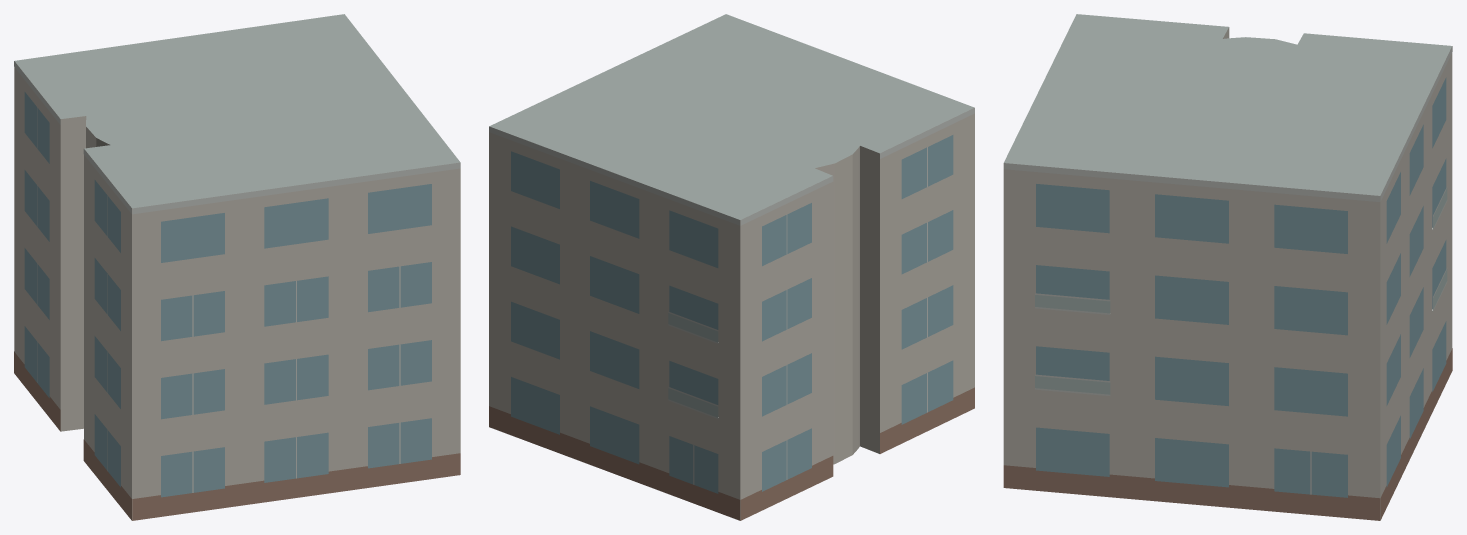
Rendered from survey-upis-32611842.glb.
The picture shows the model from 3 angles, left to right: view 1: azimuth 30°, elevation 25°; view 2: azimuth 150°, elevation 25°; view 3: azimuth 270°, elevation 25°; orthographic projection. The views are drawn at different scales.
Visible parts, largest first — view 1: survey-upis-32611842.tmp; view 2: survey-upis-32611842.tmp; view 3: survey-upis-32611842.tmp.
Part boxes in pixels (x1,y1,x2,y2): survey-upis-32611842.tmp: [14, 14, 460, 520]; survey-upis-32611842.tmp: [489, 14, 974, 520]; survey-upis-32611842.tmp: [1003, 14, 1452, 520].
Size of the model in its own units: 15.38 by 12.8 by 16.03.
